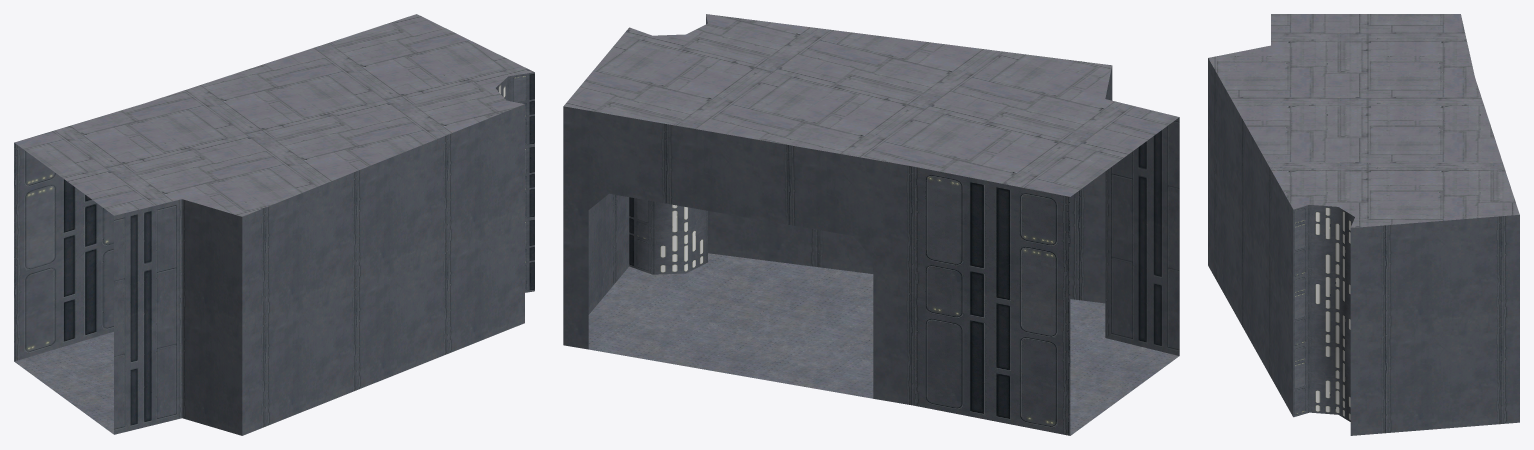
The model's file is mun_all_starport_s01_u01_r15_departures4_mesh_r15.fbx.
The picture shows the model from 3 angles, left to right: view 1: azimuth 30°, elevation 25°; view 2: azimuth 150°, elevation 25°; view 3: azimuth 270°, elevation 25°; orthographic projection. The views are drawn at different scales.
Visible parts, largest first — view 1: mesh_node; view 2: mesh_node; view 3: mesh_node.
Boxes of the visible parts, x1,y1,x2,y2 form: mesh_node: (14,14,534,435); mesh_node: (563,14,1179,435); mesh_node: (1208,14,1519,435).
Bounding box in the file's own units: 13.26 × 6 × 8.15.
